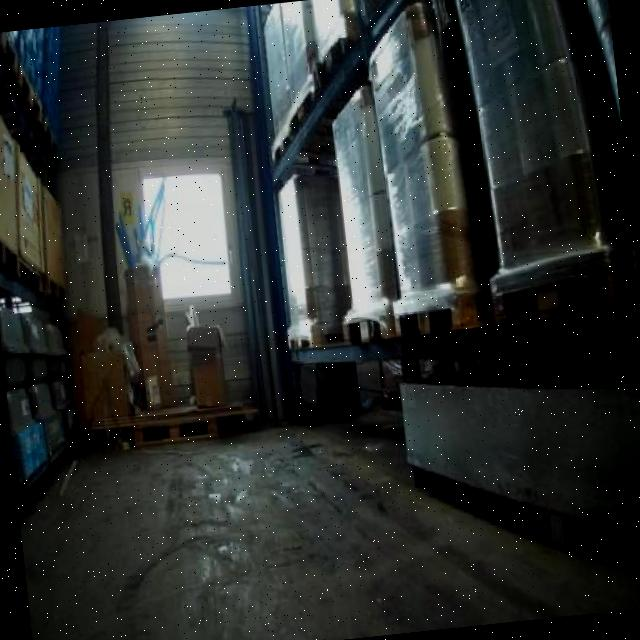pallet: (477, 255, 637, 332), (116, 396, 232, 458), (390, 292, 490, 340), (276, 306, 346, 358), (335, 307, 406, 356)
